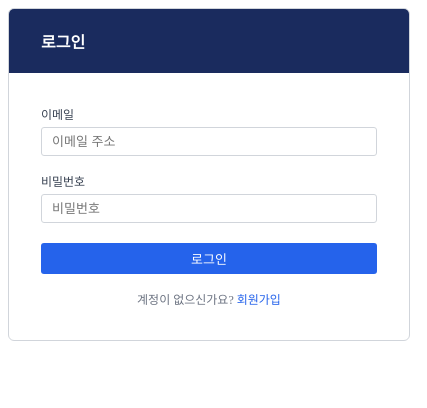
Test case: LoginForm › 서버 오류 메시지가 없으면 기본 메시지를 표시한다
Step 1. Type "test@example.com" into the field labelled "이메일" → (209, 142), box [41,127,377,156]
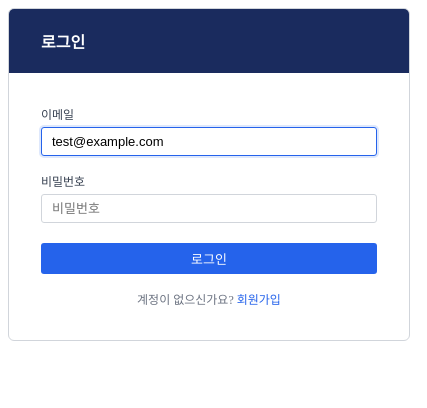
Step 2. Type "wrongpass" into the password field labelled "비밀번호" → (209, 208), box [41,194,377,223]
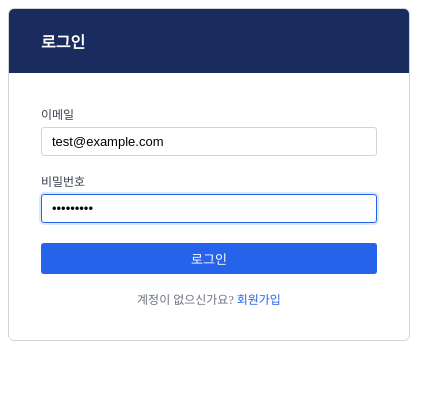
Step 3. Click the button "로그인" → (209, 258), box [41,243,377,274]
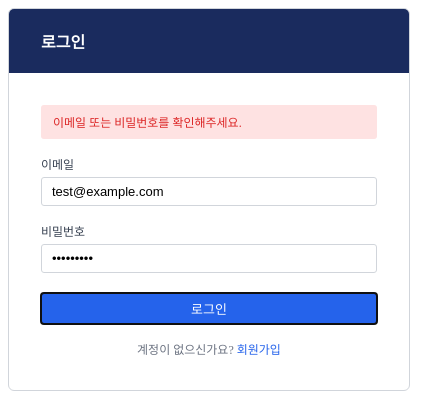
Expected: the text "이메일 또는 비밀번호를 확인해주세요." is shown, [41,105,377,139]
